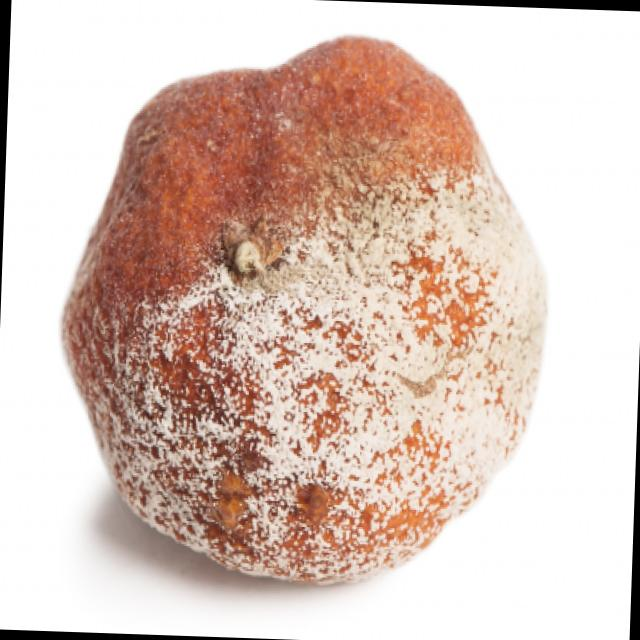rotten-orange: (51, 23, 556, 592)
